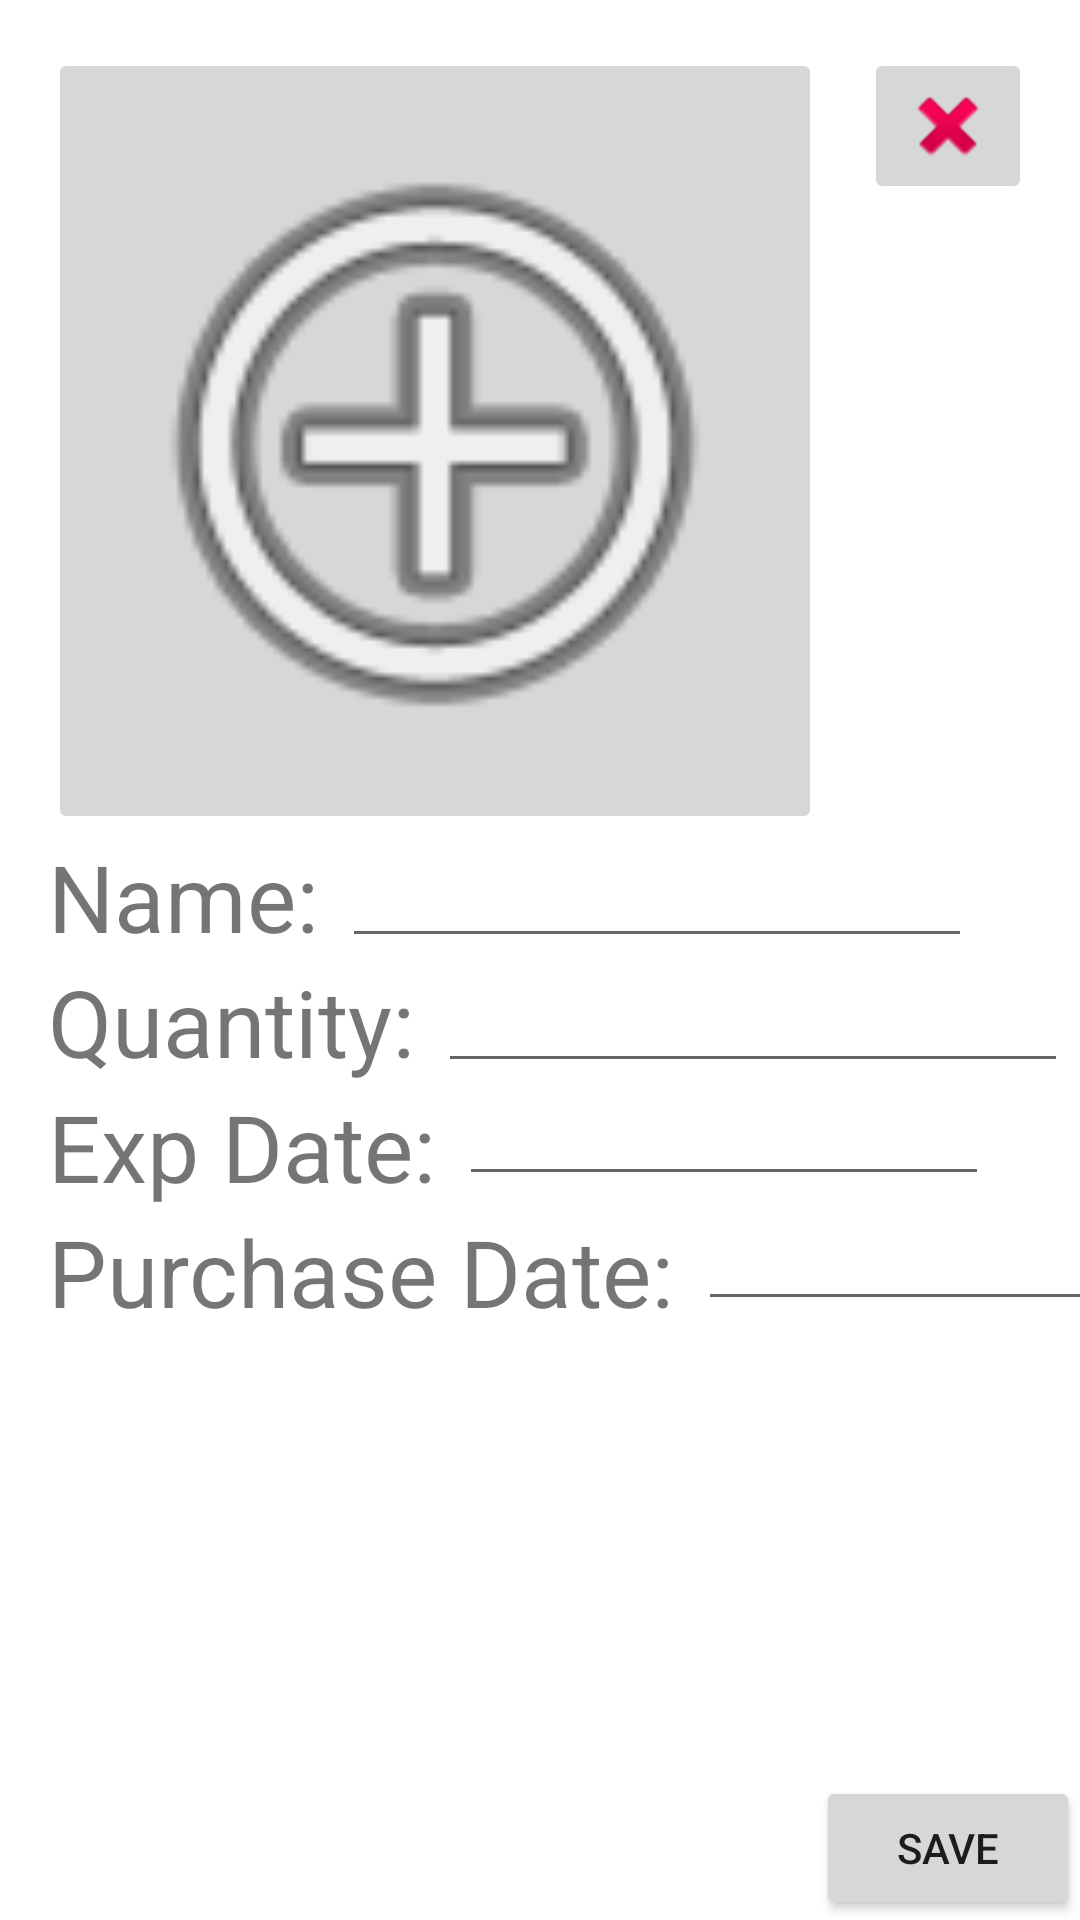

Named icons in this screenshot (1080×1920) and their bounding boxes, [x1,y1,x2,y2]:
delete: [876,66,1020,186]
